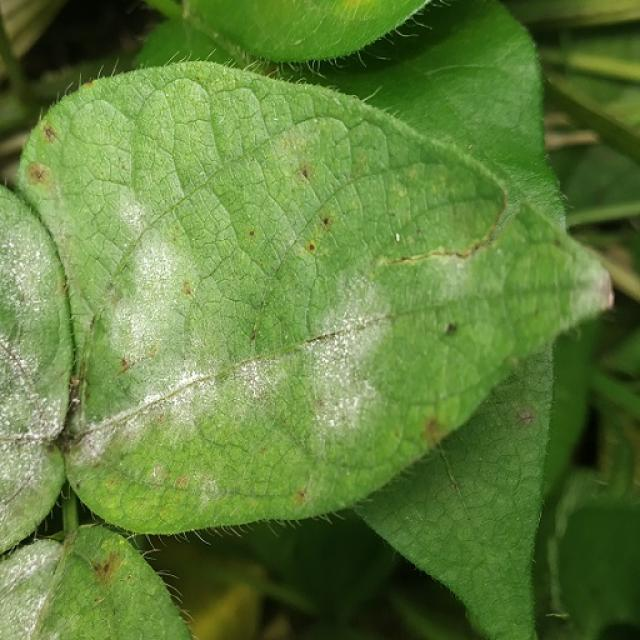Blackgram: (19, 62, 608, 532)
Powdery_Mildew: (307, 298, 383, 439), (115, 228, 188, 339), (391, 241, 501, 303), (0, 213, 60, 324), (1, 325, 58, 437), (2, 419, 56, 529), (305, 297, 381, 364), (228, 351, 294, 422), (2, 539, 57, 609), (70, 423, 113, 466)
